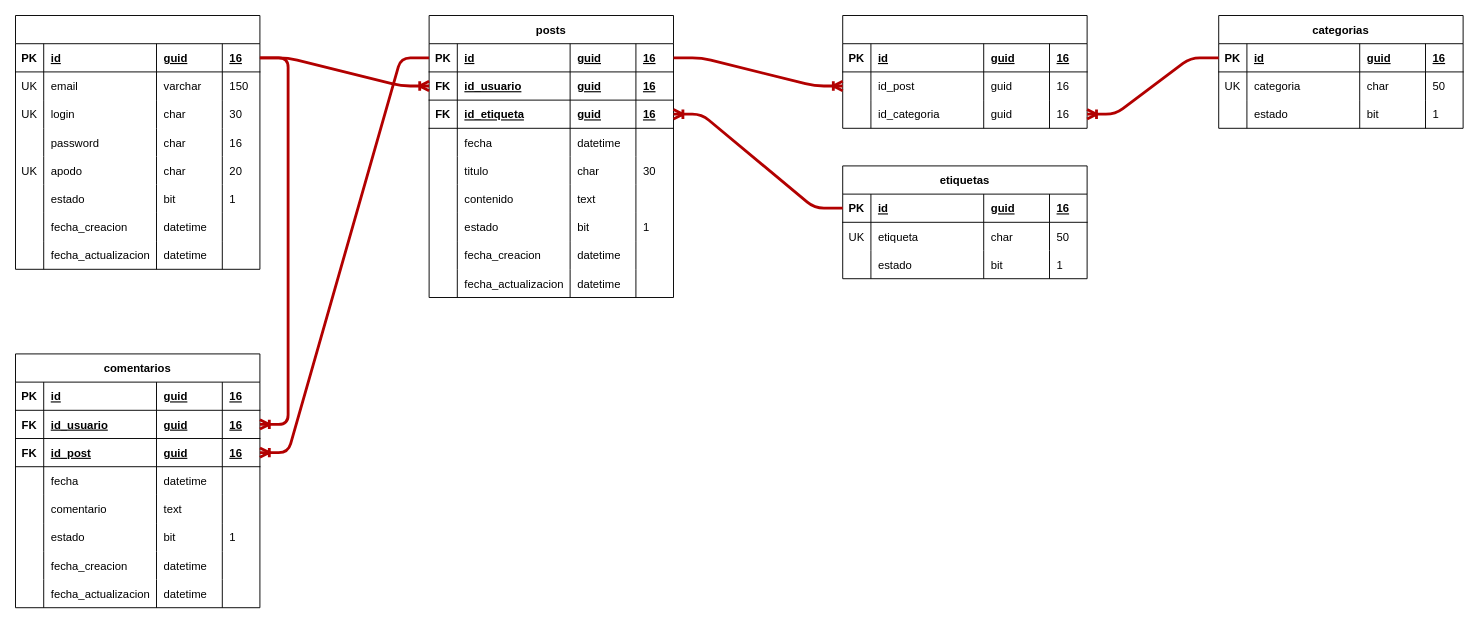
This 1479x623 diagram has some shape labels left out. Here are the shapes that lost their labels. From the top down, the box of each, then its label:
(842, 15, 1087, 128): posts_categorias
(15, 15, 260, 269): usuarios
